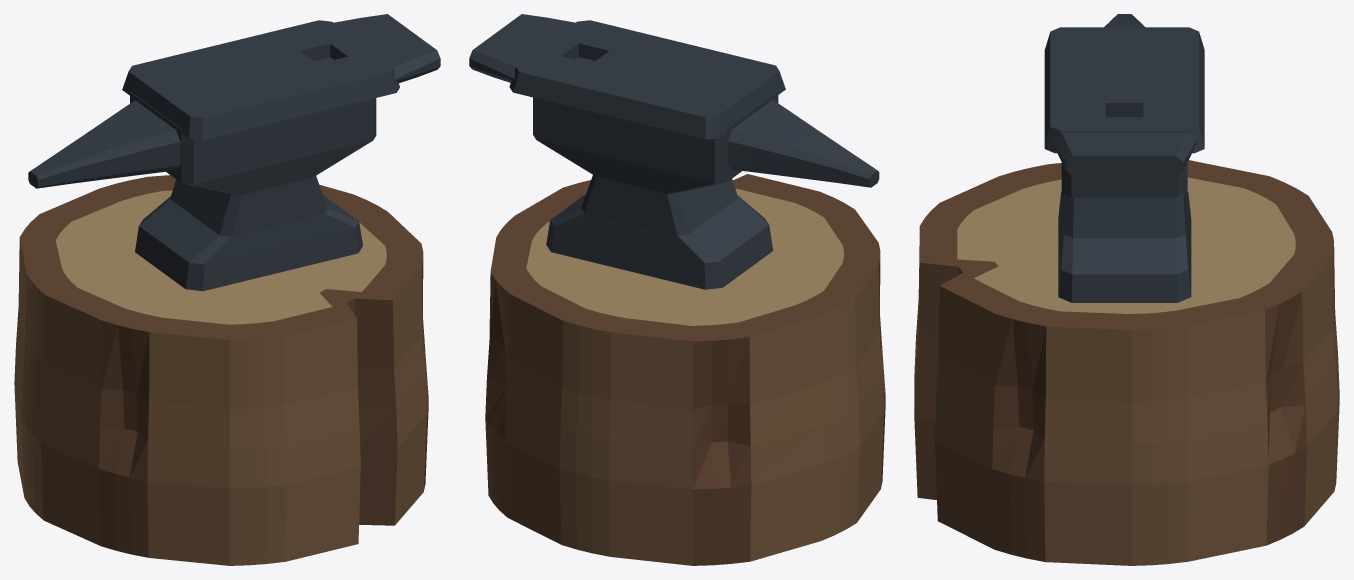
File: anvil-1286cb.glb
3 renders of one model, left to right at view 1: azimuth 30°, elevation 25°; view 2: azimuth 150°, elevation 25°; view 3: azimuth 270°, elevation 25°, orthographic. The views are drawn at different scales.
Parts seen in each view (by area): view 1: stump, anvil-iron; view 2: stump, anvil-iron; view 3: stump, anvil-iron.
Part boxes in pixels (x1,y1,x2,y2): stump: [14, 175, 428, 565]; anvil-iron: [28, 14, 440, 291]; stump: [485, 174, 885, 565]; anvil-iron: [469, 14, 879, 289]; stump: [914, 160, 1339, 565]; anvil-iron: [1044, 14, 1204, 302].
Bounding box in the file's own units: 0.812 × 0.822 × 0.7553.
